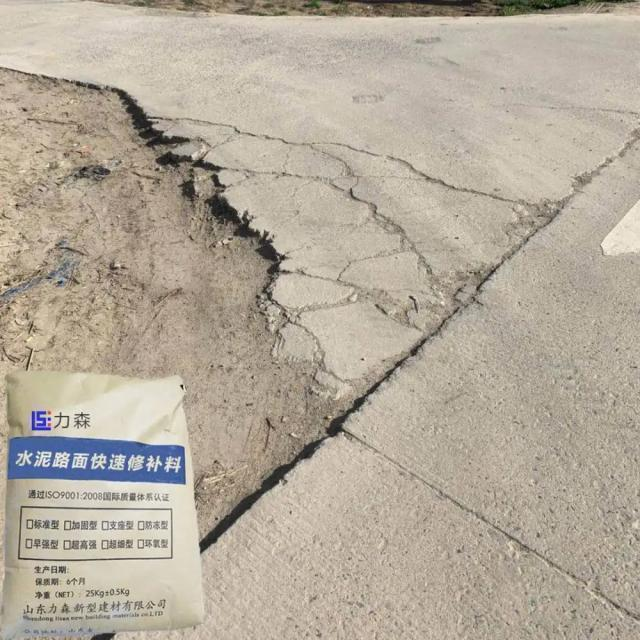Pothole: (0, 65, 422, 555)
